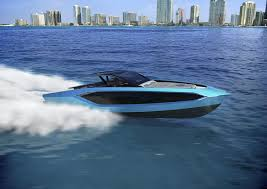boat: (43, 70, 231, 119)
